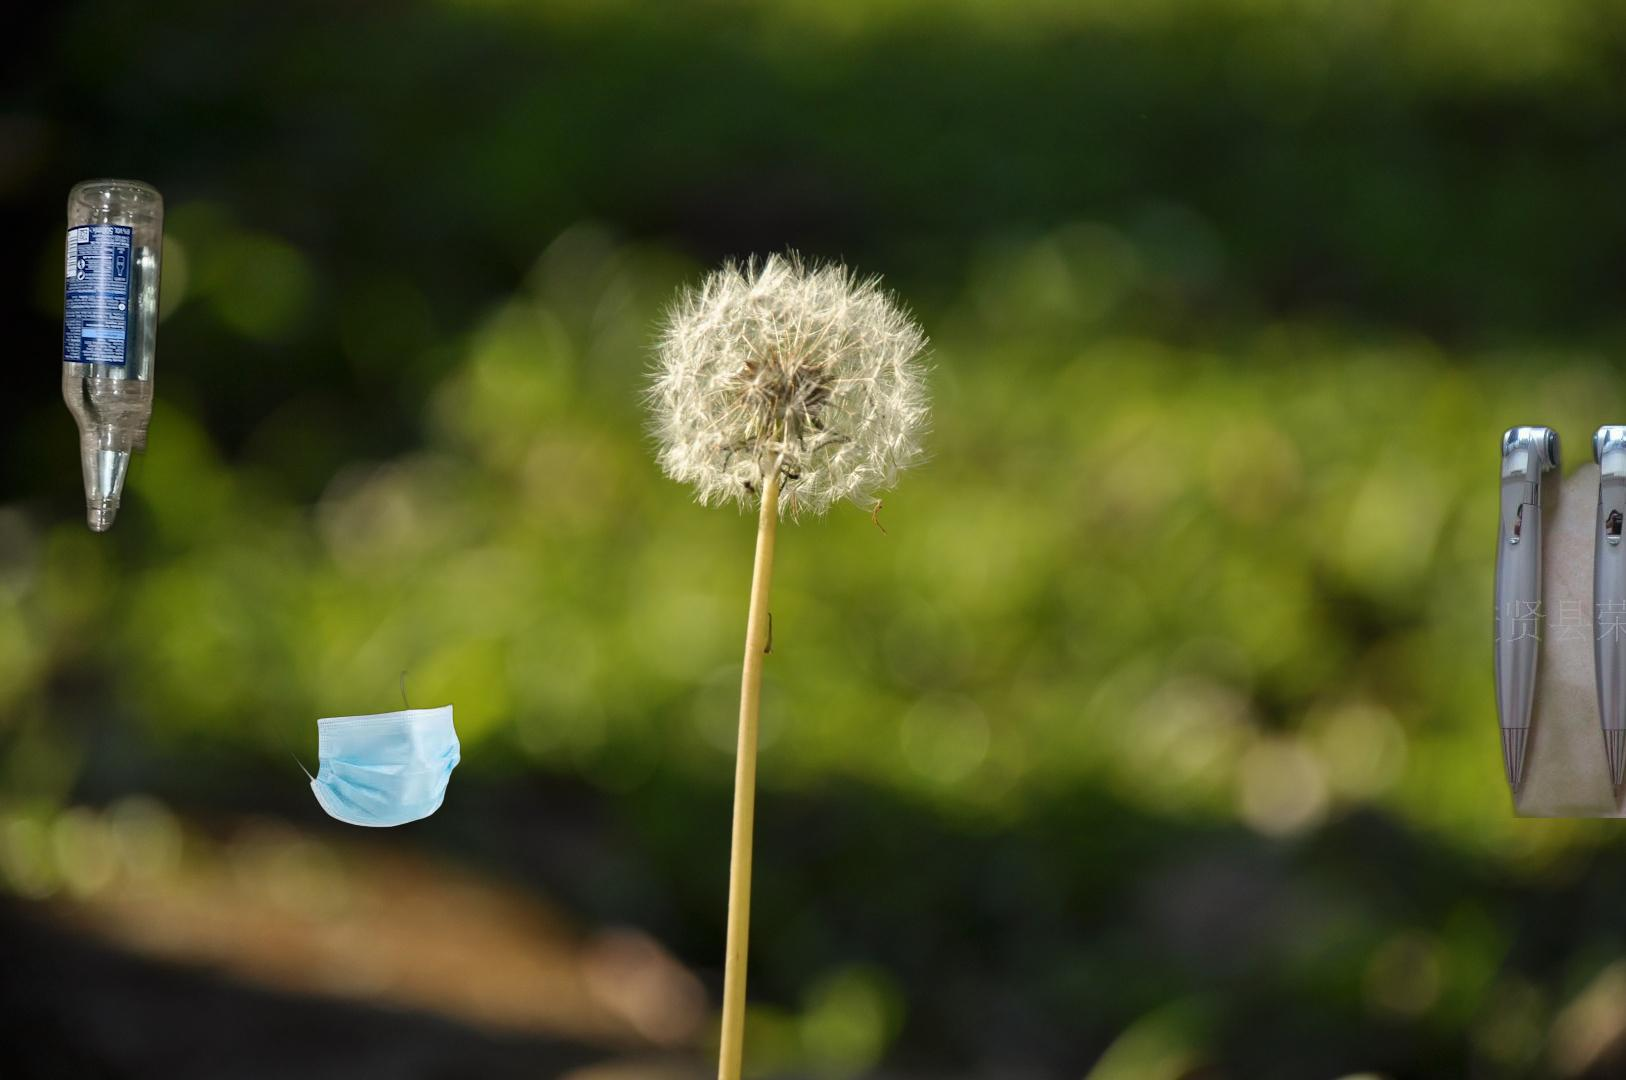glass: (58, 174, 169, 539)
penholder: (1489, 398, 1626, 818)
trash: (266, 669, 464, 830)
